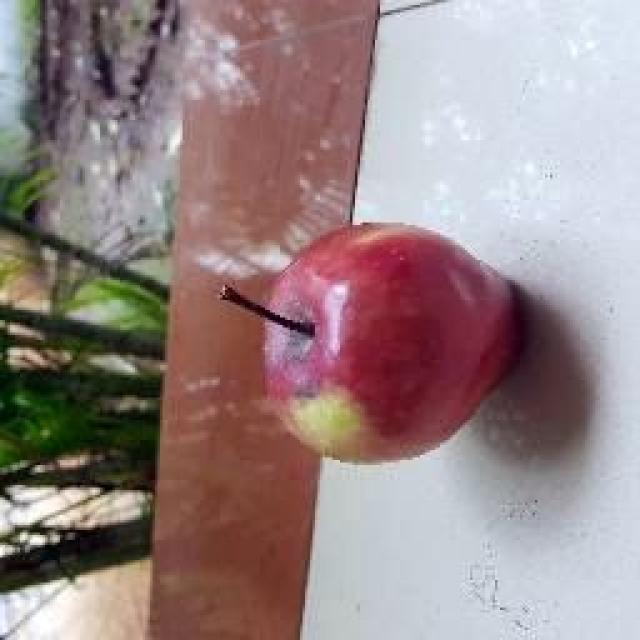Good_Apple: (222, 222, 528, 468)
